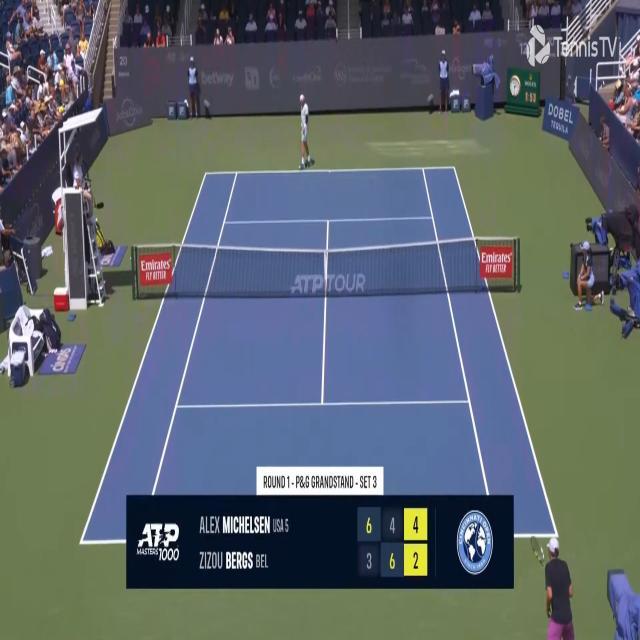tennis-player: (529, 531, 577, 640), (297, 92, 313, 172)
